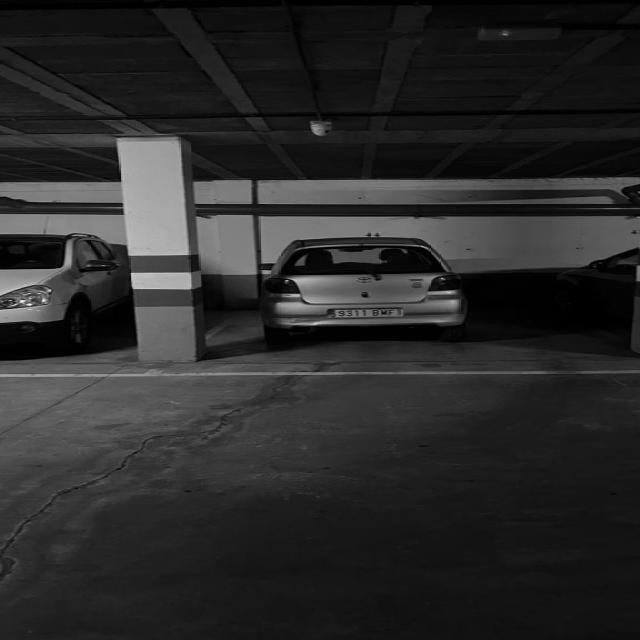License-Plate: (327, 308, 401, 319)
